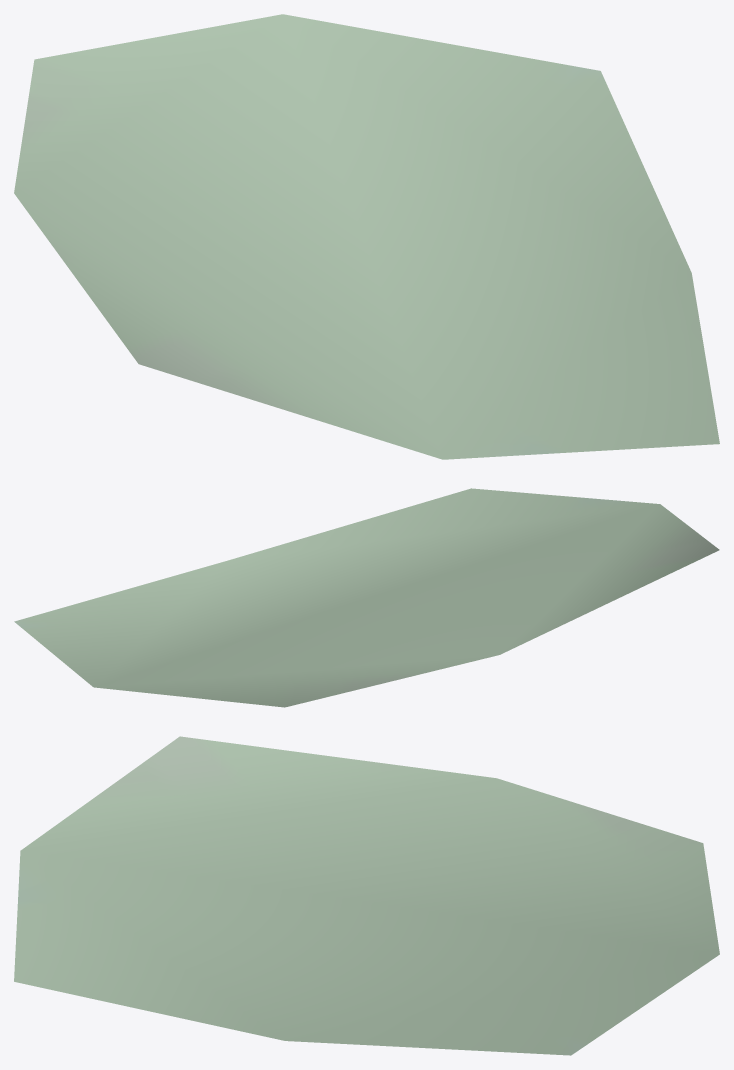
Rendered from TROLLHOLE02_HOLECAP136.fbx.
3 renders of one model, top to bottom at view 1: azimuth 30°, elevation 25°; view 2: azimuth 150°, elevation 25°; view 3: azimuth 270°, elevation 25°, orthographic. The views are drawn at different scales.
Visible parts, largest first — view 1: TROLLHOLE02_HOLECAP136; view 2: TROLLHOLE02_HOLECAP136; view 3: TROLLHOLE02_HOLECAP136.
Boxes of the visible parts, x1=… form: TROLLHOLE02_HOLECAP136: x1=14, y1=14, x2=719, y2=459; TROLLHOLE02_HOLECAP136: x1=14, y1=488, x2=719, y2=707; TROLLHOLE02_HOLECAP136: x1=14, y1=736, x2=719, y2=1055.
Bounding box in the file's own units: 29871 × 4466 × 34392.
1 material, 1 textured.
